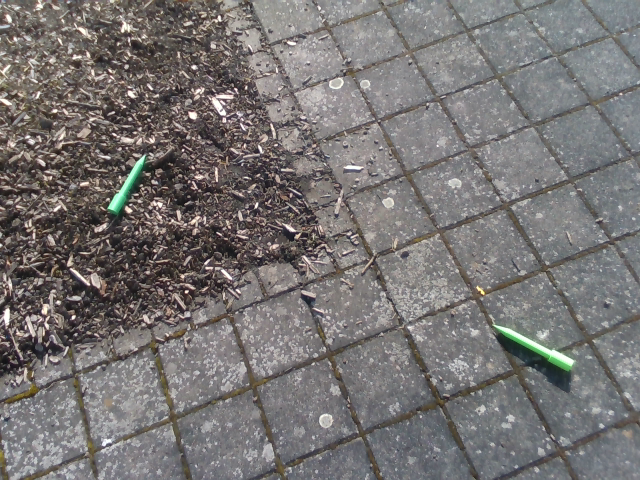Probe: (486, 316, 580, 379), (101, 144, 155, 219)
